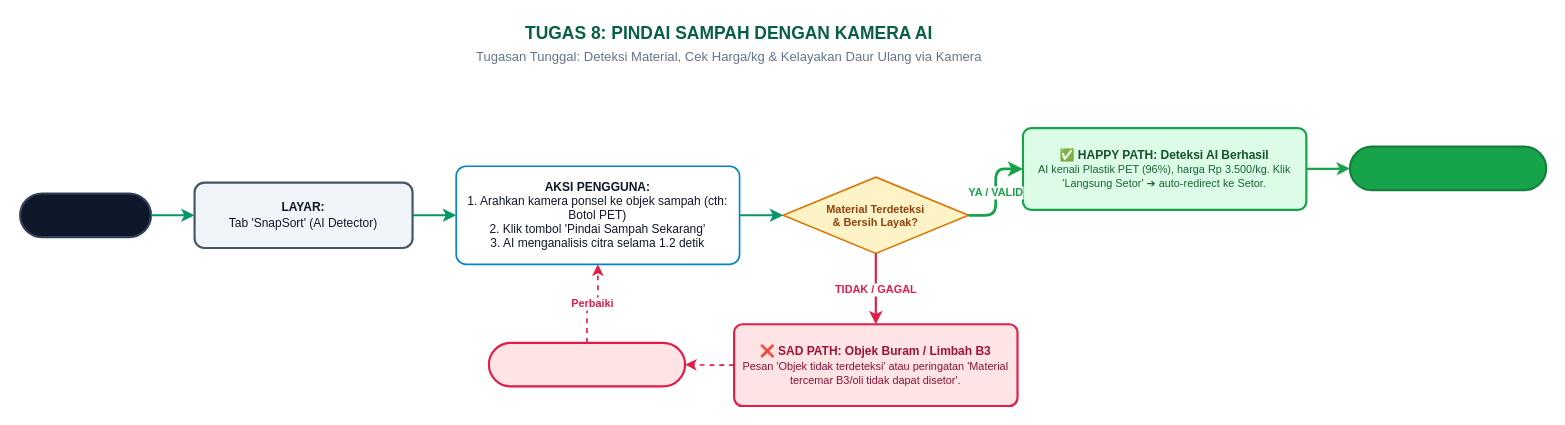
Some shapes in this 1565 by 425 pixel diagram are drawn without their labels. Here are the shapes that lost their labels. From the top down, the centre of each, then its label:
[1447,168]: Lanjut ke Tab Setor
[85,215]: MULAI TUGAS
[586,364]: Foto Ulang / Buang B3
